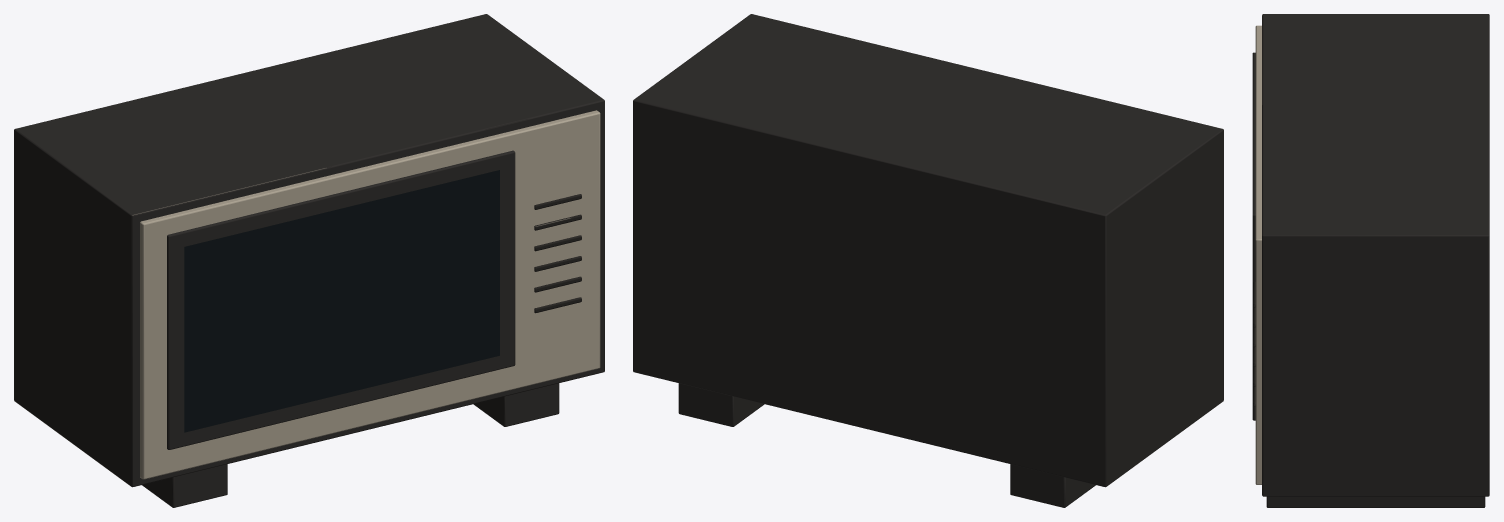
The model's file is SM_F_TV_Wide.gltf.
The picture shows the model from 3 angles, left to right: view 1: azimuth 30°, elevation 25°; view 2: azimuth 150°, elevation 25°; view 3: azimuth 270°, elevation 25°; orthographic projection. The views are drawn at different scales.
Visible parts, largest first — view 1: SM_F_TV_Wide_LookDev02__Body, SM_F_TV_Wide_LookDev02__Screen; view 2: SM_F_TV_Wide_LookDev02__Body; view 3: SM_F_TV_Wide_LookDev02__Body.
Boxes of the visible parts, box(x1,y1,x2,y2) form: SM_F_TV_Wide_LookDev02__Body: box(14, 14, 604, 507); SM_F_TV_Wide_LookDev02__Screen: box(184, 170, 499, 432); SM_F_TV_Wide_LookDev02__Body: box(633, 14, 1223, 507); SM_F_TV_Wide_LookDev02__Body: box(1252, 14, 1489, 507).
Bounding box in the file's own units: 1.2 × 0.74 × 0.5425.
Materials: 4 (3 with a texture image).
